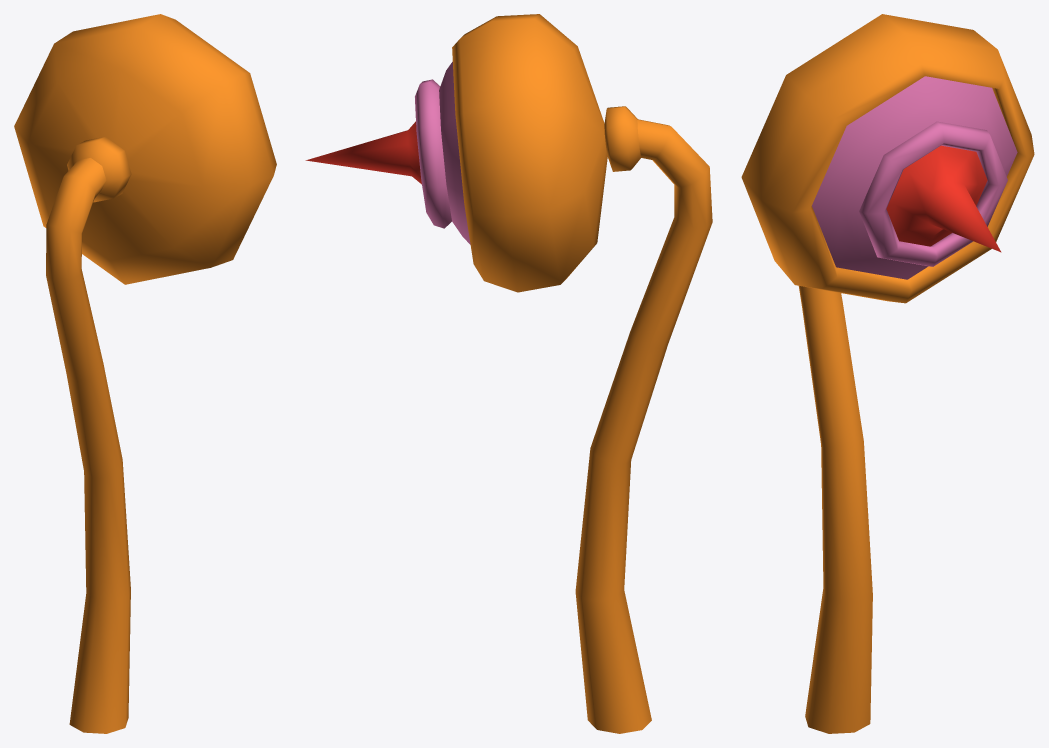
Rendered from Plant_1_5_yellow.fbx.
3 renders of one model, left to right at view 1: azimuth 30°, elevation 25°; view 2: azimuth 150°, elevation 25°; view 3: azimuth 270°, elevation 25°, orthographic. The views are drawn at different scales.
Visible parts, largest first — view 1: Plant_1_5_yellow; view 2: Plant_1_5_yellow; view 3: Plant_1_5_yellow.
Part boxes in pixels (box(x1,y1,x2,y2)): Plant_1_5_yellow: box(14, 14, 276, 733); Plant_1_5_yellow: box(305, 14, 712, 733); Plant_1_5_yellow: box(741, 14, 1034, 733).
Size of the model in its own units: 0.9973 by 2.17 by 0.7785.
